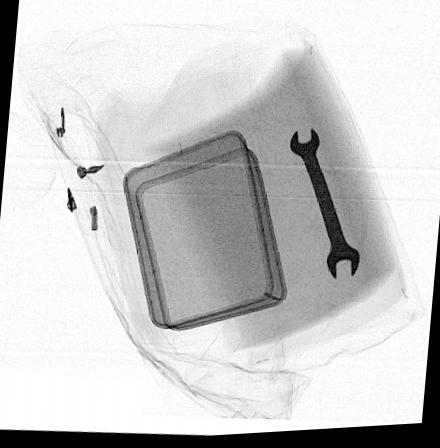Wrench: (290, 129, 361, 289)
